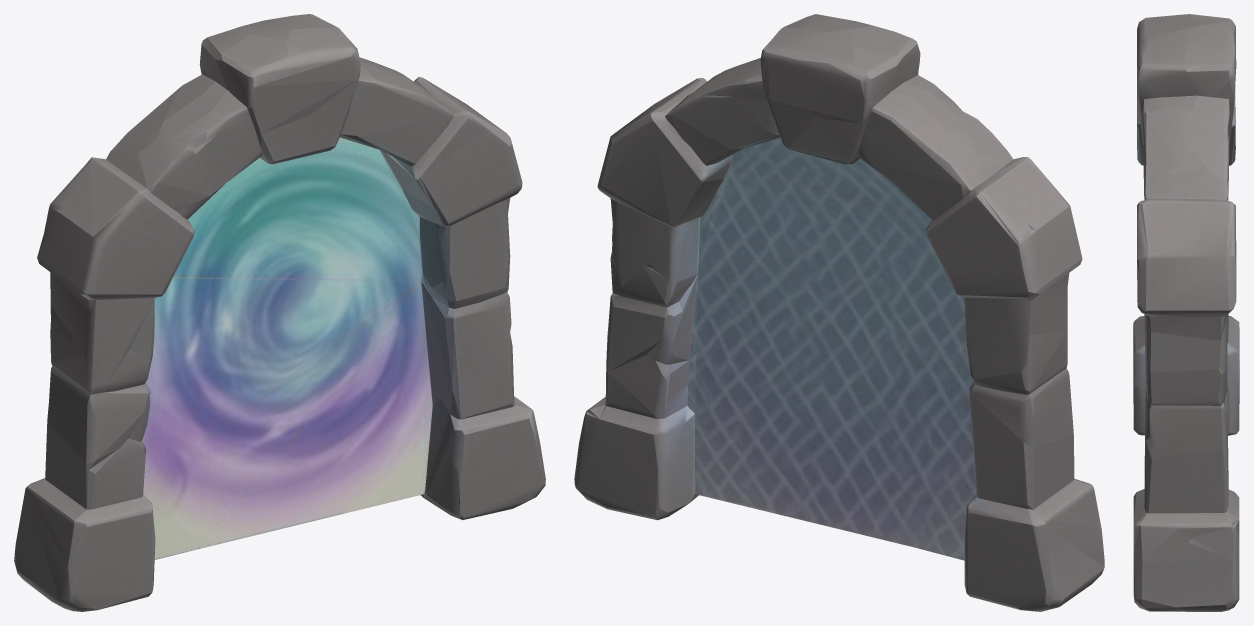
Rendered from portal.glb.
3 views of the same model, side by side, from view 1: azimuth 30°, elevation 25°; view 2: azimuth 150°, elevation 25°; view 3: azimuth 270°, elevation 25° (orthographic). The views are drawn at different scales.
Bounding box in the file's own units: 1.9 × 1.9 × 0.3842.
Materials: 1 (1 with a texture image).
